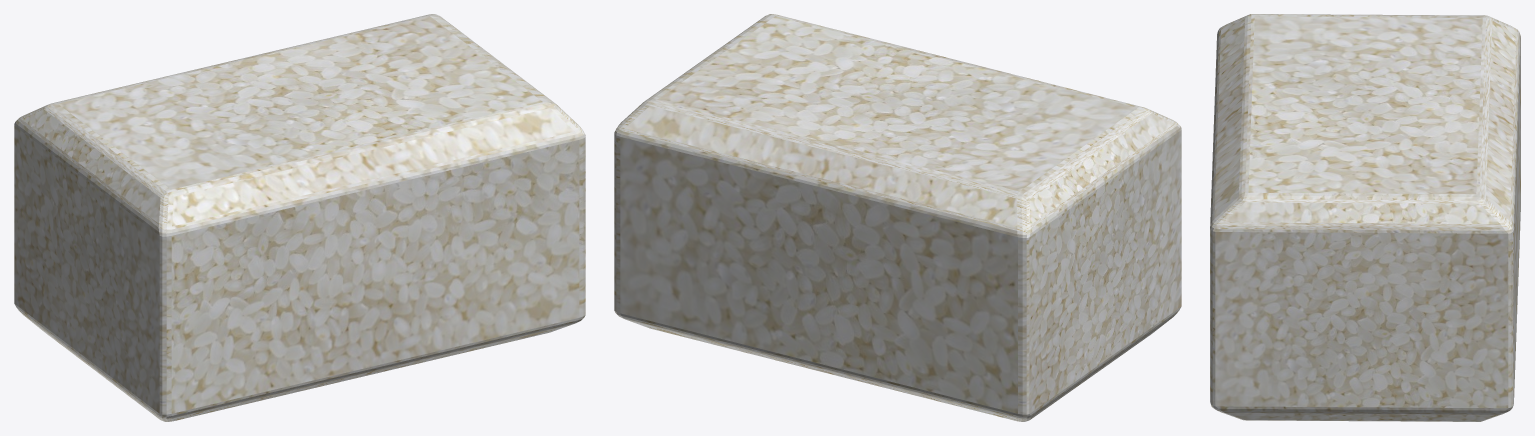
The model's file is nigiriRijst.obj.
3 renders of one model, left to right at view 1: azimuth 30°, elevation 25°; view 2: azimuth 150°, elevation 25°; view 3: azimuth 270°, elevation 25°, orthographic. The views are drawn at different scales.
Parts seen in each view (by area): view 1: Cube.001; view 2: Cube.001; view 3: Cube.001.
Part boxes in pixels (left/top/right/bottom): Cube.001: left=14, top=14, right=585, bottom=421; Cube.001: left=614, top=14, right=1181, bottom=421; Cube.001: left=1210, top=14, right=1520, bottom=421.
Size of the model in its own units: 0.3589 by 0.1851 by 0.2314.
Materials: 1 (1 with a texture image).
